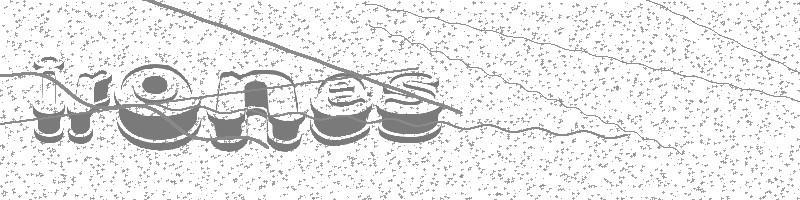e: (308, 66, 374, 151)
i: (26, 47, 71, 148)
n: (206, 68, 308, 153)
o: (112, 58, 205, 152)
r: (69, 68, 115, 151)
s: (377, 67, 448, 148)
